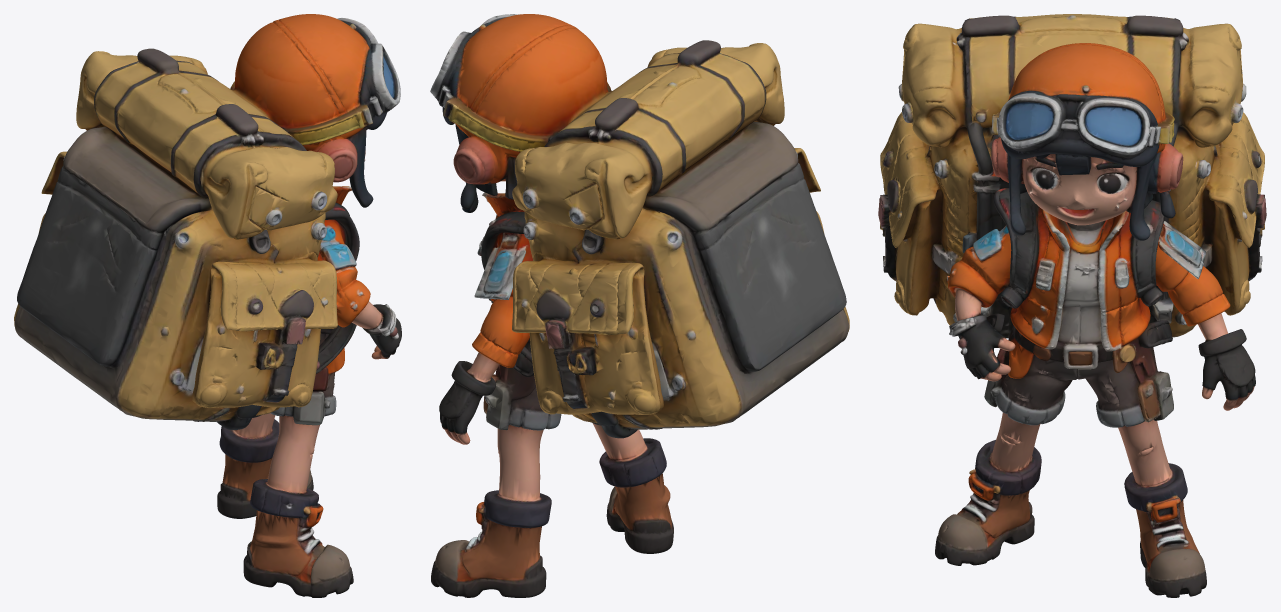
File: xiaoman-opt.glb
3 views of the same model, side by side, from view 1: azimuth 30°, elevation 25°; view 2: azimuth 150°, elevation 25°; view 3: azimuth 270°, elevation 25° (orthographic). The views are drawn at different scales.
Parts seen in each view (by area): view 1: tripo_node_95631682-33d4-4630-9de5-8c9e5edeb31b; view 2: tripo_node_95631682-33d4-4630-9de5-8c9e5edeb31b; view 3: tripo_node_95631682-33d4-4630-9de5-8c9e5edeb31b.
Part boxes in pixels (box(x1,y1,x2,y2)): tripo_node_95631682-33d4-4630-9de5-8c9e5edeb31b: box(14, 14, 401, 597); tripo_node_95631682-33d4-4630-9de5-8c9e5edeb31b: box(430, 14, 849, 597); tripo_node_95631682-33d4-4630-9de5-8c9e5edeb31b: box(878, 14, 1266, 597).
Size of the model in its own units: 0.6791 by 1 by 0.667.
1 material, 1 textured.
